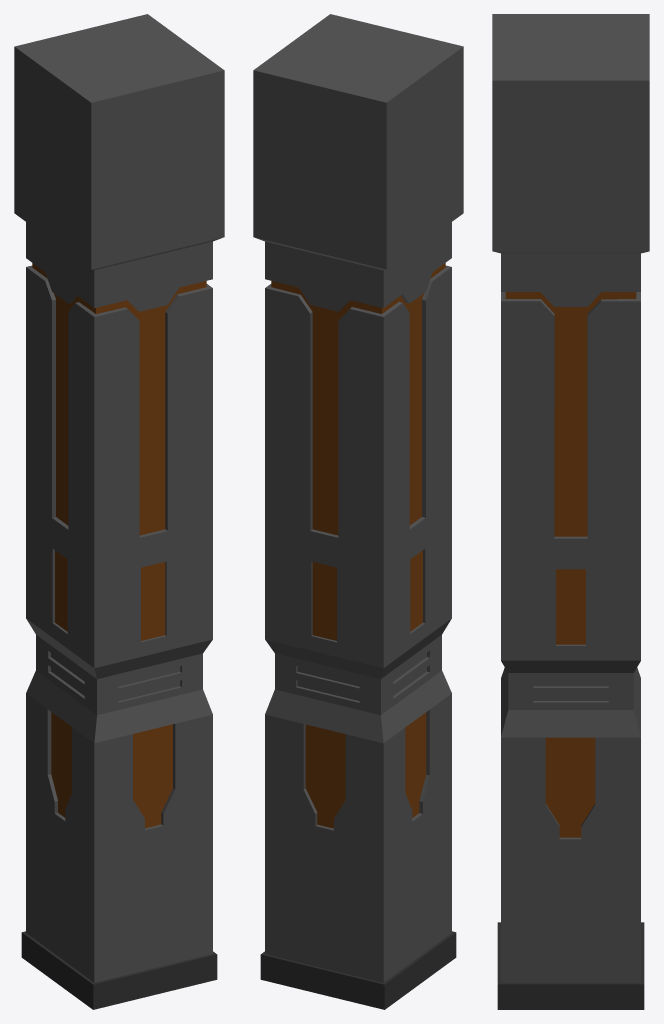
The model's file is Column_3.obj.
3 views of the same model, side by side, from view 1: azimuth 30°, elevation 25°; view 2: azimuth 150°, elevation 25°; view 3: azimuth 270°, elevation 25° (orthographic). The views are drawn at different scales.
Visible parts, largest first — view 1: Column_3_Plane.057; view 2: Column_3_Plane.057; view 3: Column_3_Plane.057.
Part boxes in pixels (x1,y1,x2,y2): Column_3_Plane.057: (14,14,224,1009); Column_3_Plane.057: (253,14,463,1009); Column_3_Plane.057: (492,14,649,1009).
Bounding box in the file's own units: 0.6843 × 4.46 × 0.6843.
